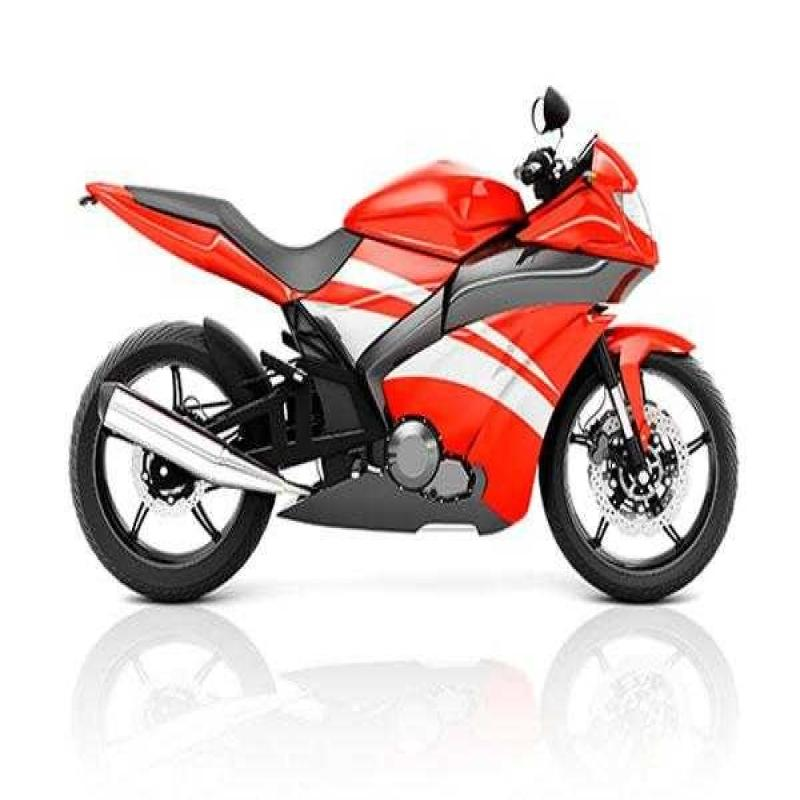bike: (67, 70, 728, 600)
